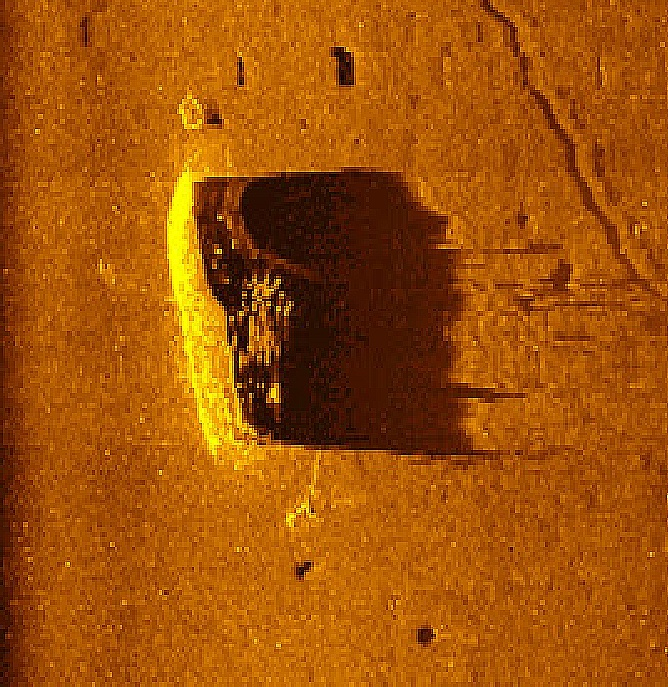ship: (163, 166, 297, 464)
